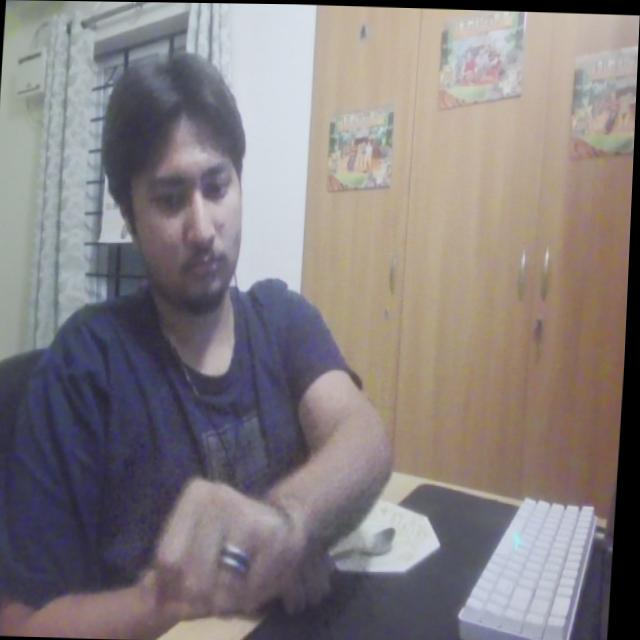yes: (136, 460, 316, 632)
